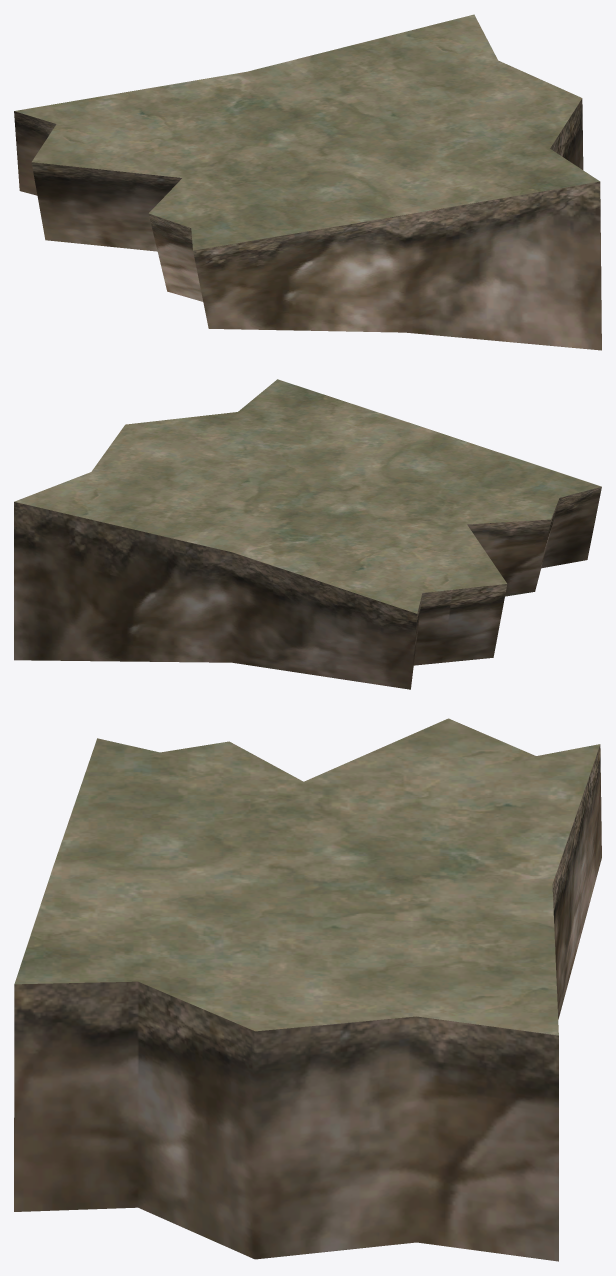
Rendered from ANIMATEDINSTANCES_ROCKFALL_600__AI.fbx.
3 renders of one model, top to bottom at view 1: azimuth 30°, elevation 25°; view 2: azimuth 150°, elevation 25°; view 3: azimuth 270°, elevation 25°, orthographic. The views are drawn at different scales.
Visible parts, largest first — view 1: ANIMATEDINSTANCES_ROCKFALL_600__AI; view 2: ANIMATEDINSTANCES_ROCKFALL_600__AI; view 3: ANIMATEDINSTANCES_ROCKFALL_600__AI.
Boxes of the visible parts, box(x1,y1,x2,y2) form: ANIMATEDINSTANCES_ROCKFALL_600__AI: box(14, 14, 601, 350); ANIMATEDINSTANCES_ROCKFALL_600__AI: box(14, 379, 601, 689); ANIMATEDINSTANCES_ROCKFALL_600__AI: box(14, 718, 601, 1261).
Size of the model in its own units: 25956 by 8675 by 20385.
2 materials, 2 textured.
